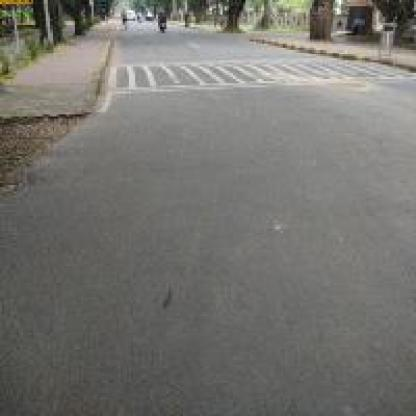Speed Bump: (106, 52, 414, 98)
